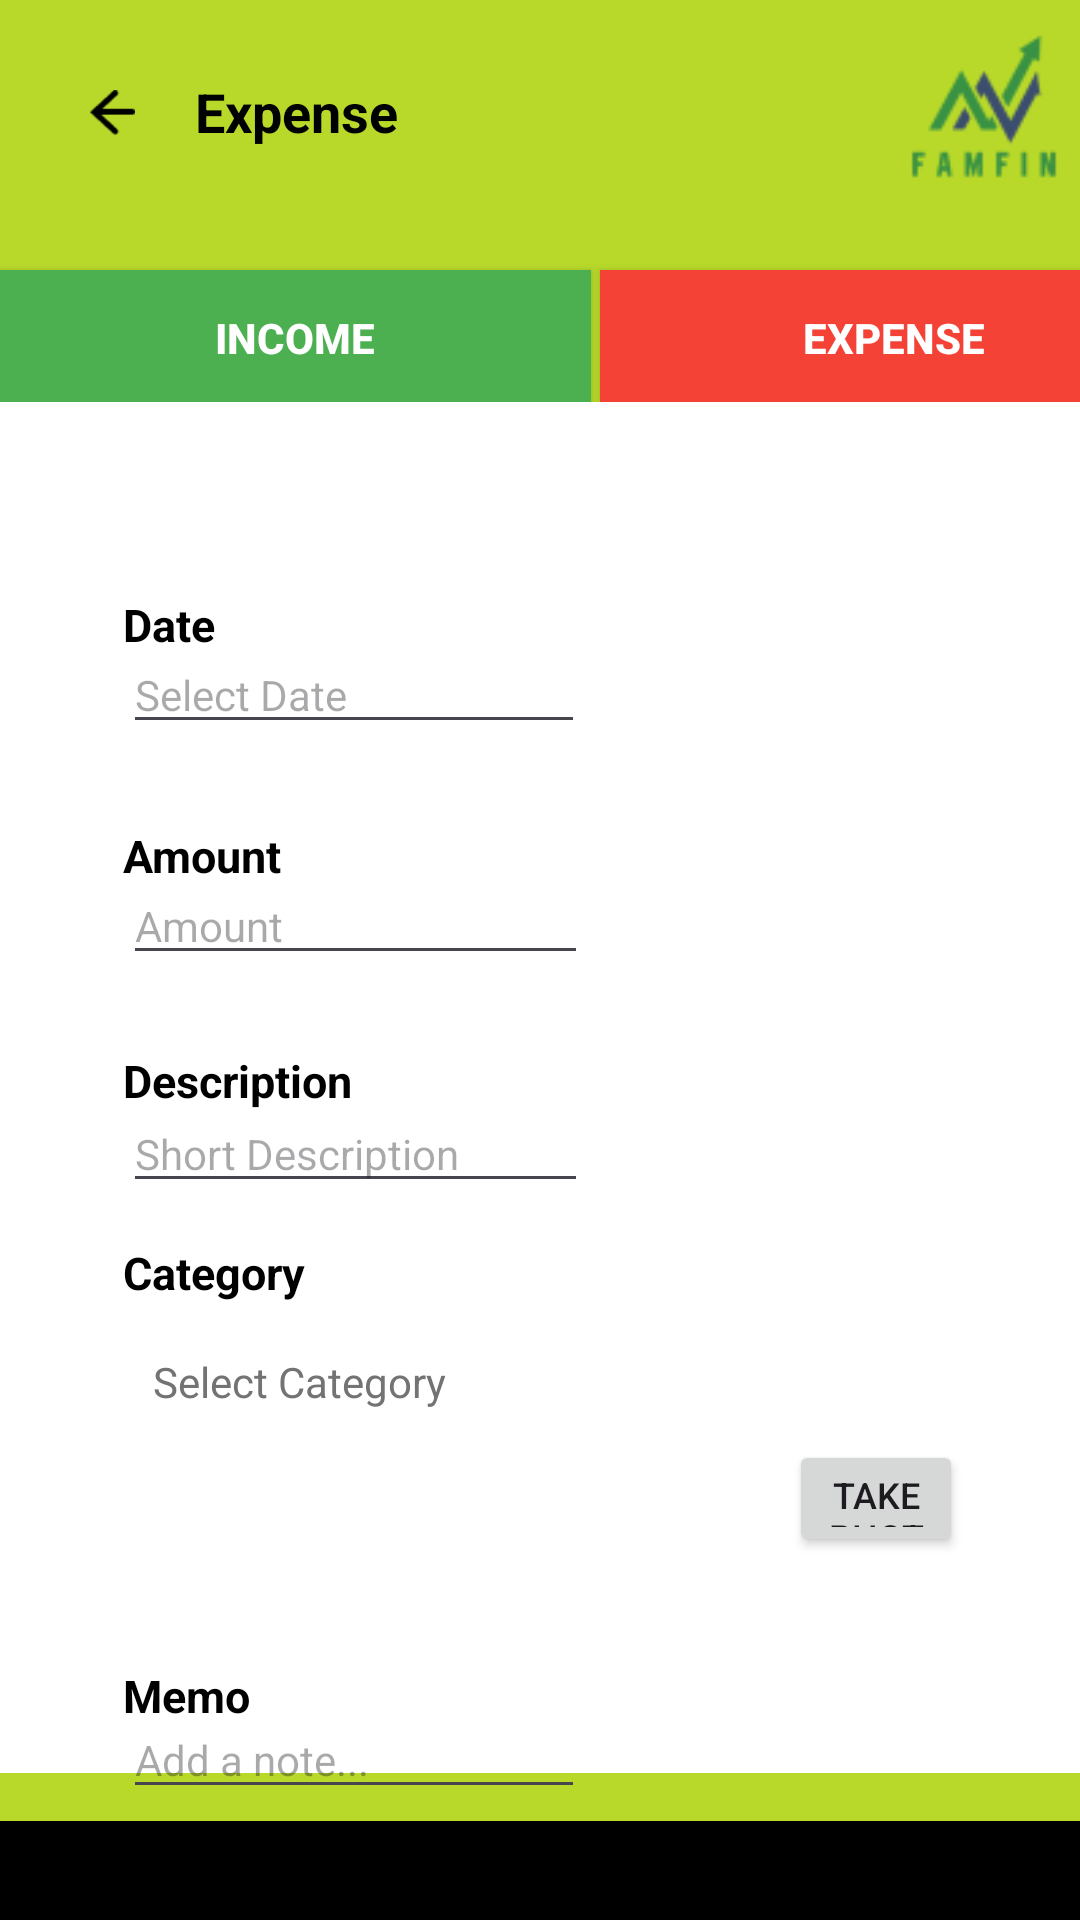

Where icons sit on this 1080 x 1920 app screen, as (x1, y1, x2, y2):
Back Button: (90, 90, 135, 135)
